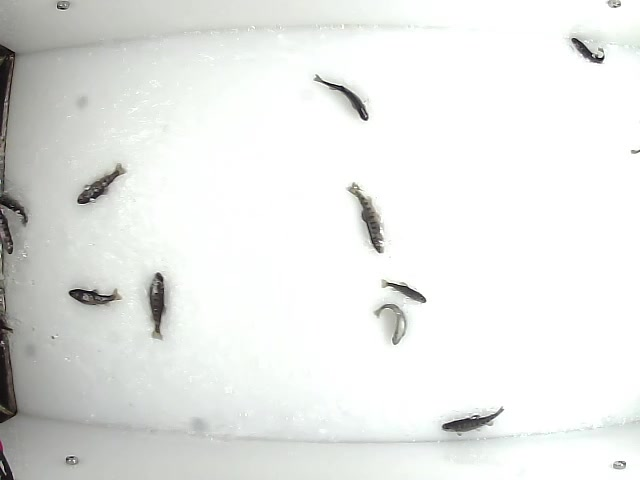fish: (344, 180, 388, 255), (309, 72, 372, 123), (76, 160, 130, 205), (441, 402, 508, 433), (373, 298, 409, 345), (145, 270, 168, 342), (380, 277, 427, 303), (570, 35, 607, 66), (67, 287, 124, 307)
